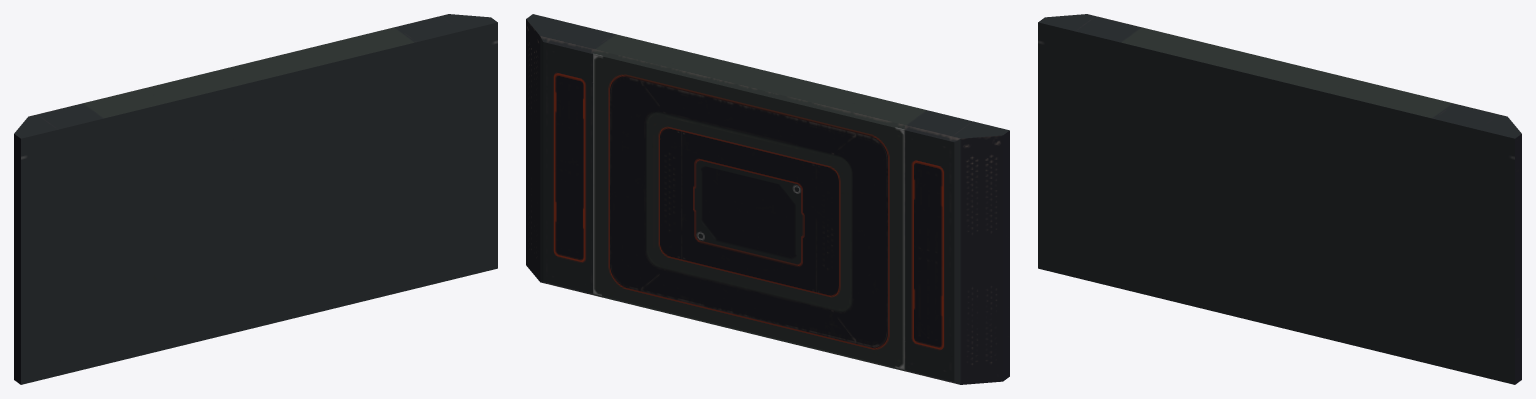
The model's file is Interior2_panel_SciFi_7_BS.fbx.
3 views of the same model, side by side, from view 1: azimuth 30°, elevation 25°; view 2: azimuth 150°, elevation 25°; view 3: azimuth 330°, elevation 25° (orthographic).
Visible parts, largest first — view 1: Interior2_panel_SciFi_7_BS; view 2: Interior2_panel_SciFi_7_BS; view 3: Interior2_panel_SciFi_7_BS.
Part boxes in pixels (x1,y1,x2,y2): Interior2_panel_SciFi_7_BS: (14, 14, 497, 384); Interior2_panel_SciFi_7_BS: (526, 14, 1009, 384); Interior2_panel_SciFi_7_BS: (1038, 14, 1521, 384).
Size of the model in its own units: 398 by 196 by 32.83.
1 material, 1 textured.
